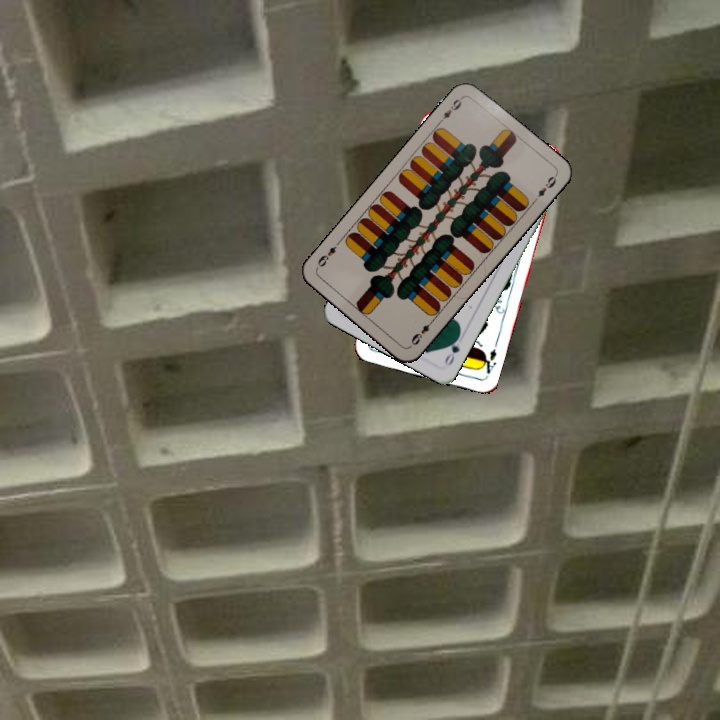E9: (406, 315, 437, 349), (435, 92, 466, 126)
EA: (477, 344, 499, 376)
GO: (440, 330, 463, 368)
